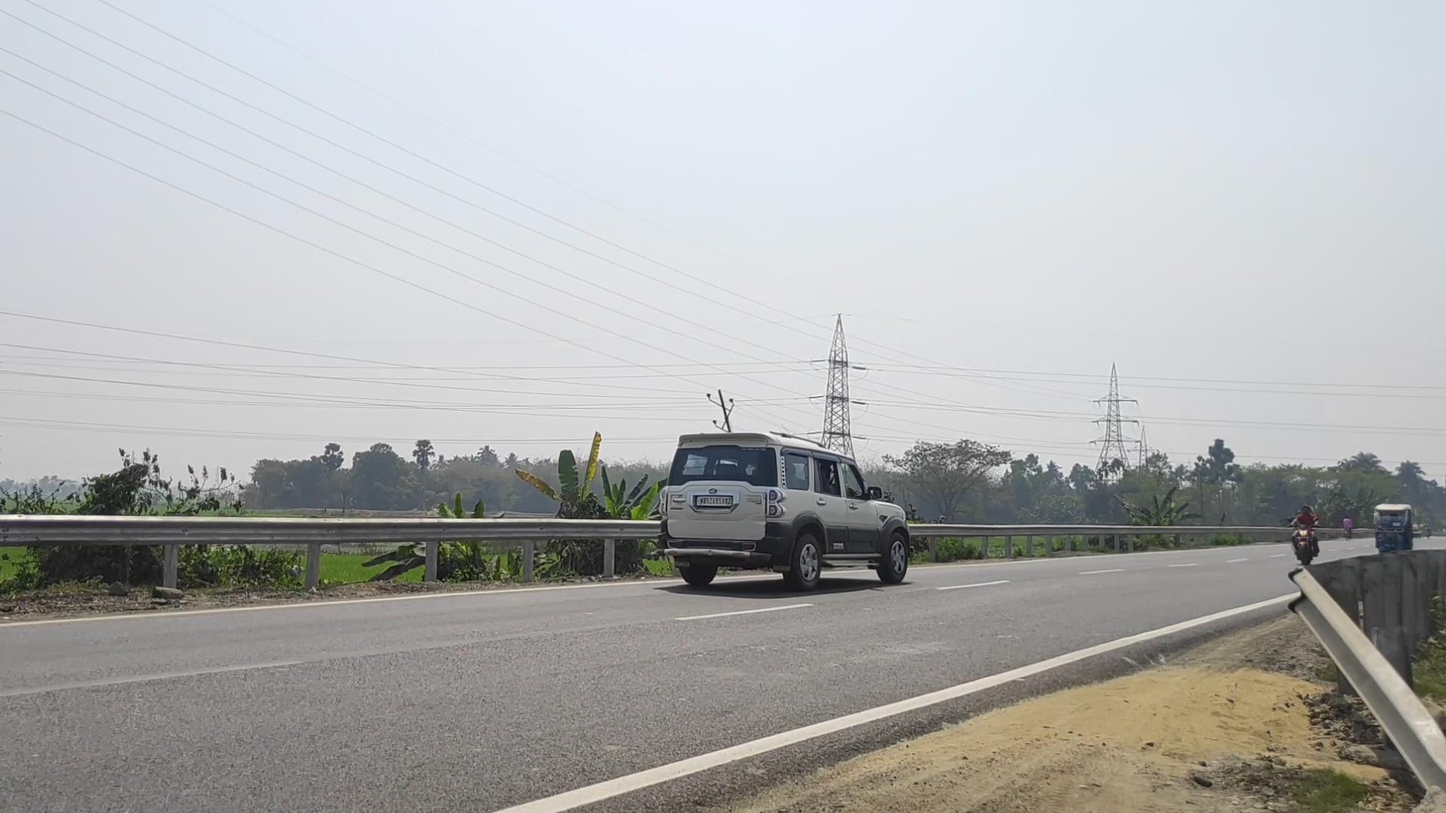Auto: (1373, 504, 1413, 556)
bike: (658, 432, 911, 592), (1287, 505, 1320, 566)
